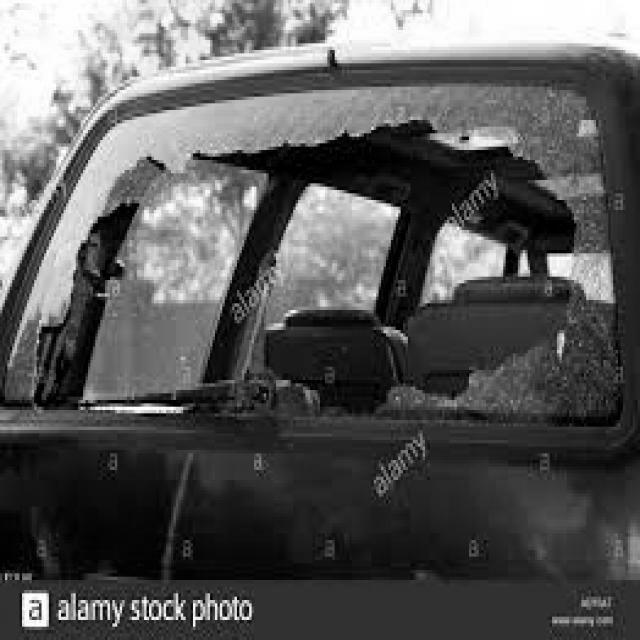Rear-windscreen-Damage: (0, 107, 588, 427)
